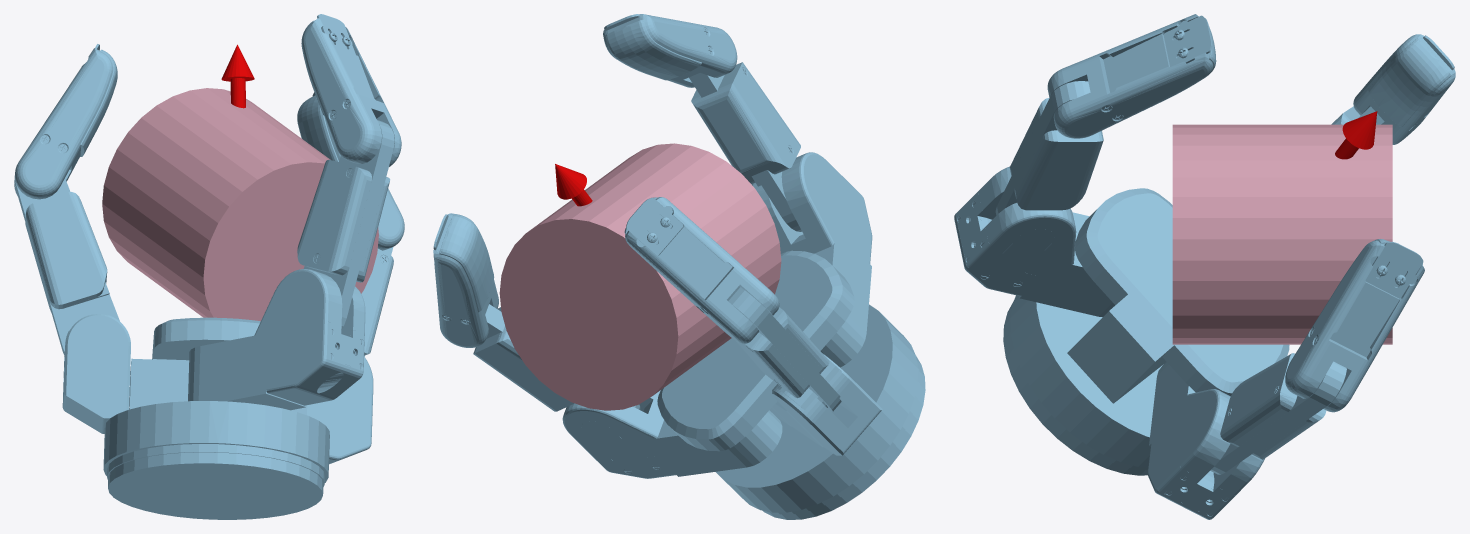
The picture shows the model from 3 angles, left to right: view 1: azimuth 30°, elevation 25°; view 2: azimuth 150°, elevation 25°; view 3: azimuth 270°, elevation 25°; orthographic projection. The views are drawn at different scales.
Visible parts, largest first — view 1: world, cylinder_medium.stl; view 2: world, cylinder_medium.stl; view 3: world, cylinder_medium.stl.
Part boxes in pixels (x1=…): world: x1=14, y1=14, x2=404, y2=519; cylinder_medium.stl: x1=102, y1=88, x2=378, y2=321; world: x1=433, y1=14, x2=925, y2=519; cylinder_medium.stl: x1=499, y1=143, x2=781, y2=410; world: x1=954, y1=14, x2=1455, y2=519; cylinder_medium.stl: x1=1172, y1=124, x2=1392, y2=344.
Size of the model in its own units: 0.1729 by 0.2043 by 0.1823.
